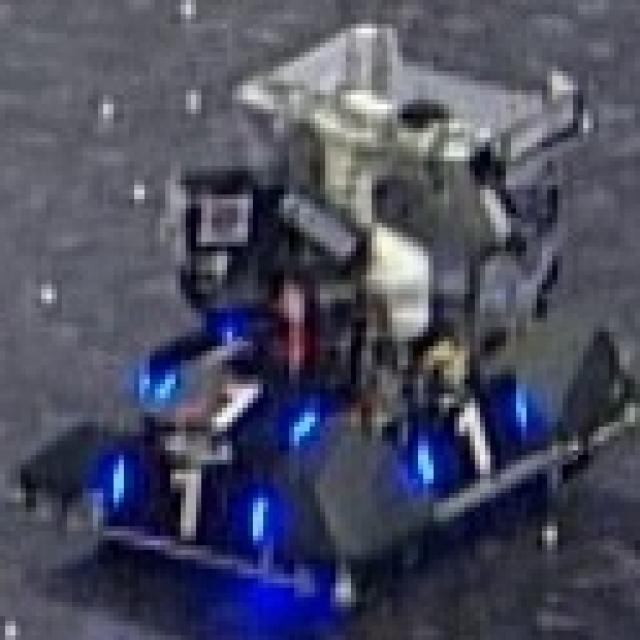B1: (104, 450, 268, 546), (408, 374, 532, 484), (150, 370, 320, 446)
